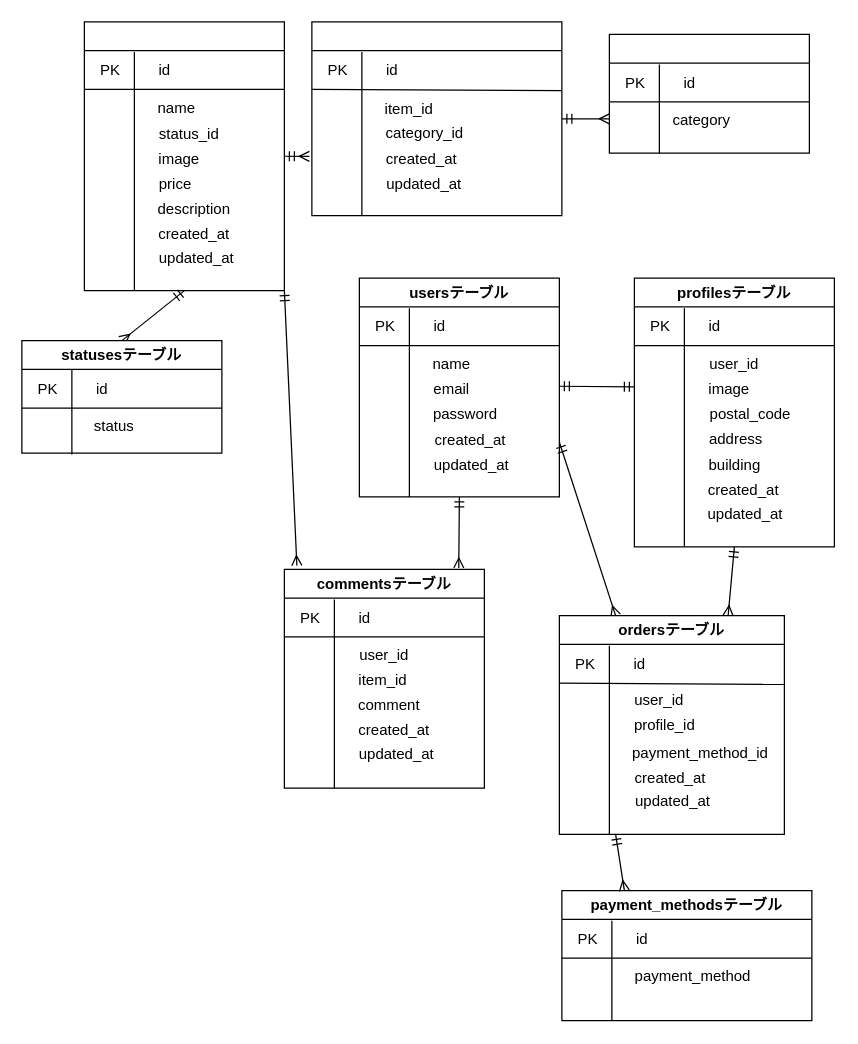
The diagram is 858 pixels wide and 1044 high, and some of its shapes have lost their labels. The shapes that lost their labels are listed below. From the top down, each one's box as (x1, y1, x2, y2) in pixels, then its label:
(608, 33, 809, 153): categoriesテーブル
(311, 21, 562, 216): product_categoriesテーブル
(83, 21, 284, 291): itemsテーブル
